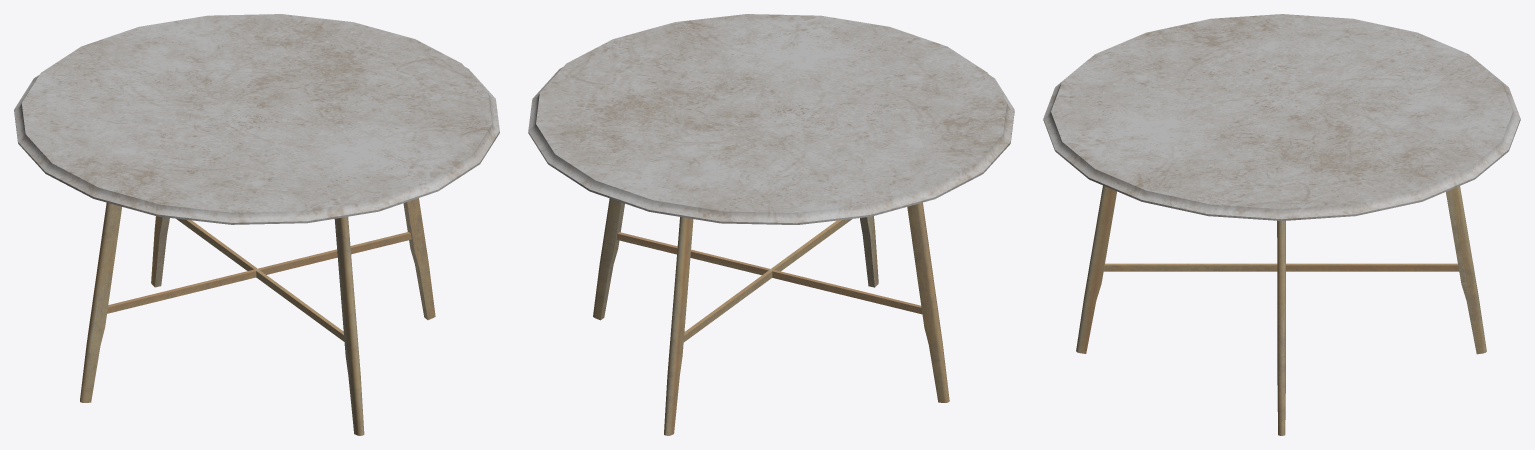
The model's file is circular_coffee_table.fbx.
3 views of the same model, side by side, from view 1: azimuth 30°, elevation 25°; view 2: azimuth 150°, elevation 25°; view 3: azimuth 270°, elevation 25° (orthographic). The views are drawn at different scales.
Parts seen in each view (by area): view 1: Cylinder.007; view 2: Cylinder.007; view 3: Cylinder.007.
Part boxes in pixels (x1,y1,x2,y2): Cylinder.007: (14,14,499,435); Cylinder.007: (528,14,1014,435); Cylinder.007: (1043,14,1520,435).
Bounding box in the file's own units: 113 × 62.82 × 113.
